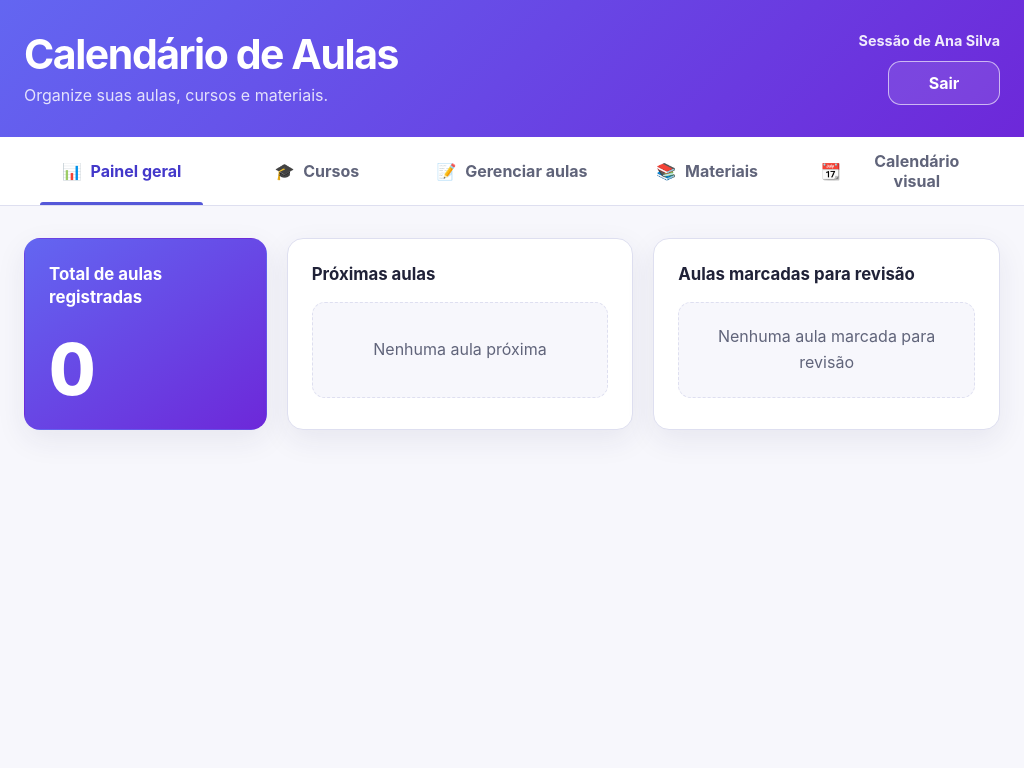
Test: navegação da área autenticada › troca entre as cinco seções disponíveis
This screenshot has width=1024, height=768.
Click the button "🎓 Cursos": {"x": 317, "y": 171} [219, 137, 414, 205]
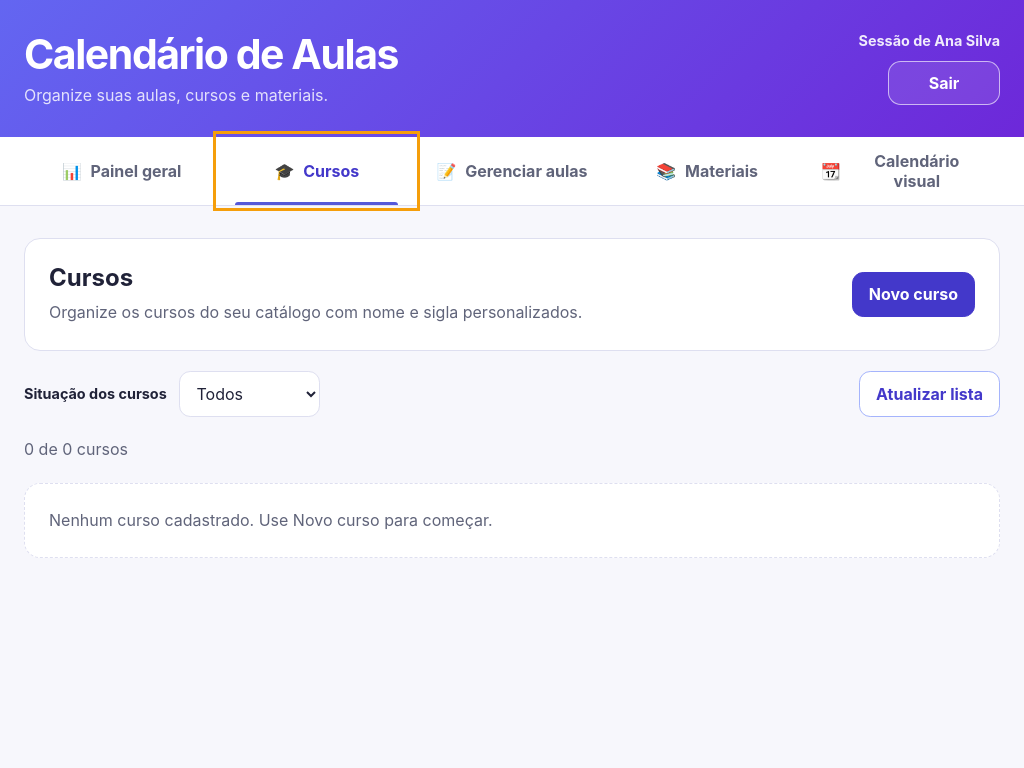
Expected: the heading "Cursos" is shown, [49, 263, 133, 292]
Expected: the text "Nenhum curso cadastrado. Use Novo curso para começar." is shown, [24, 483, 1000, 558]
Click the button "📝 Gerenciar aulas": {"x": 512, "y": 171} [414, 137, 610, 205]
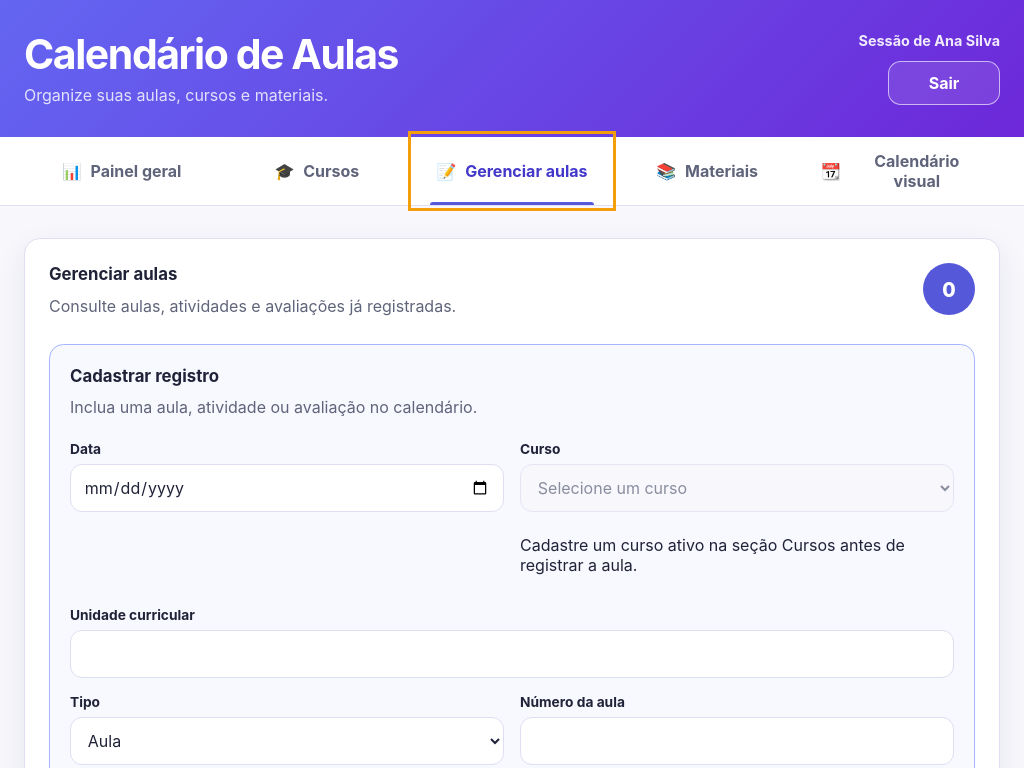
Expected: the heading "Gerenciar aulas" is shown, [49, 264, 177, 284]
Click the button "📚 Materiais": {"x": 707, "y": 171} [610, 137, 805, 205]
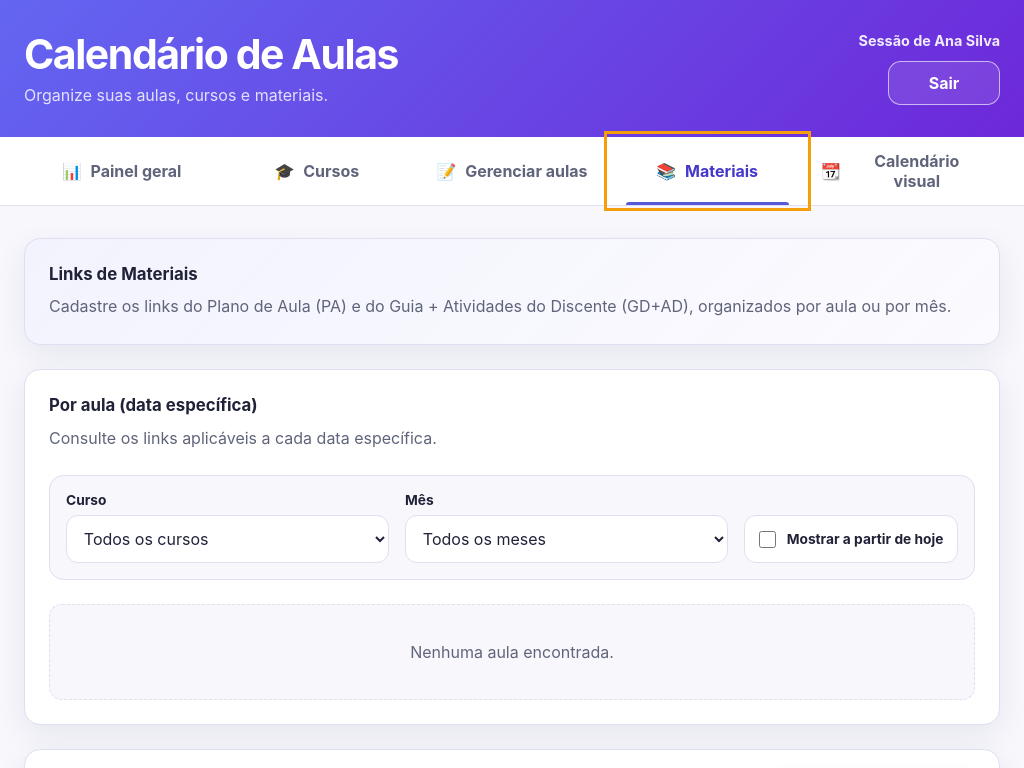
Expected: the heading "Links de Materiais" is shown, [49, 264, 198, 284]
Expected: the heading "Por aula (data específica)" is shown, [49, 395, 258, 415]
Click the button "📆 Calendário visual": {"x": 902, "y": 171} [805, 137, 1000, 205]
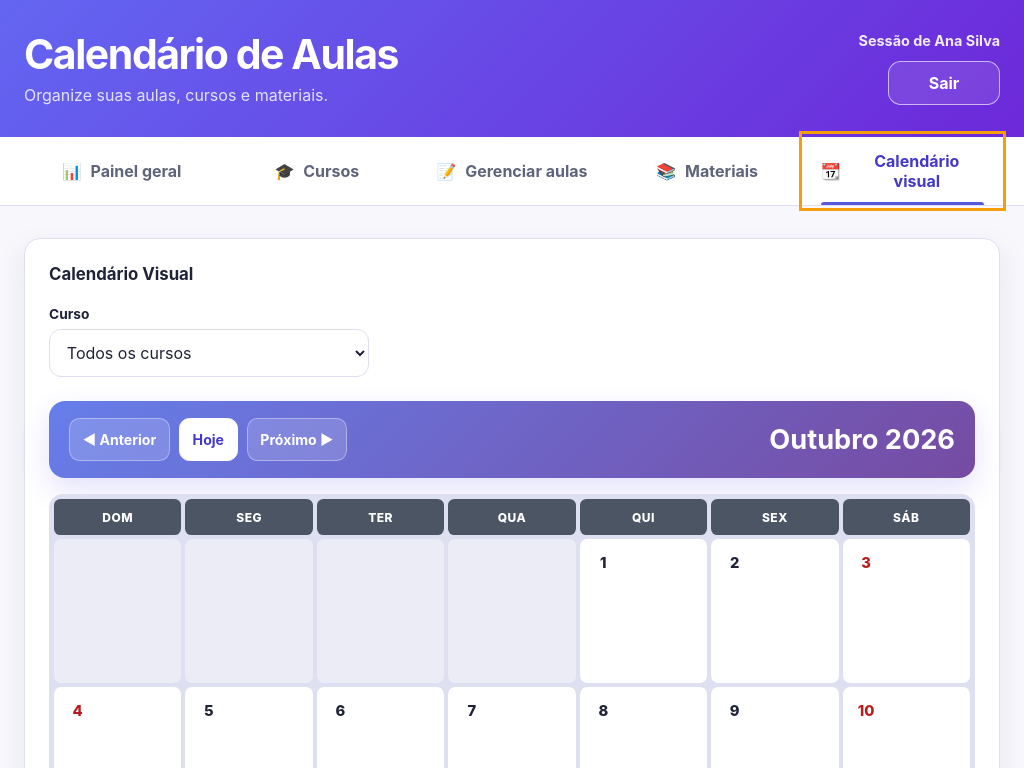
Expected: the heading "Calendário Visual" is shown, [49, 264, 193, 284]
Click the button "📊 Painel geral": {"x": 122, "y": 171} [24, 137, 219, 205]
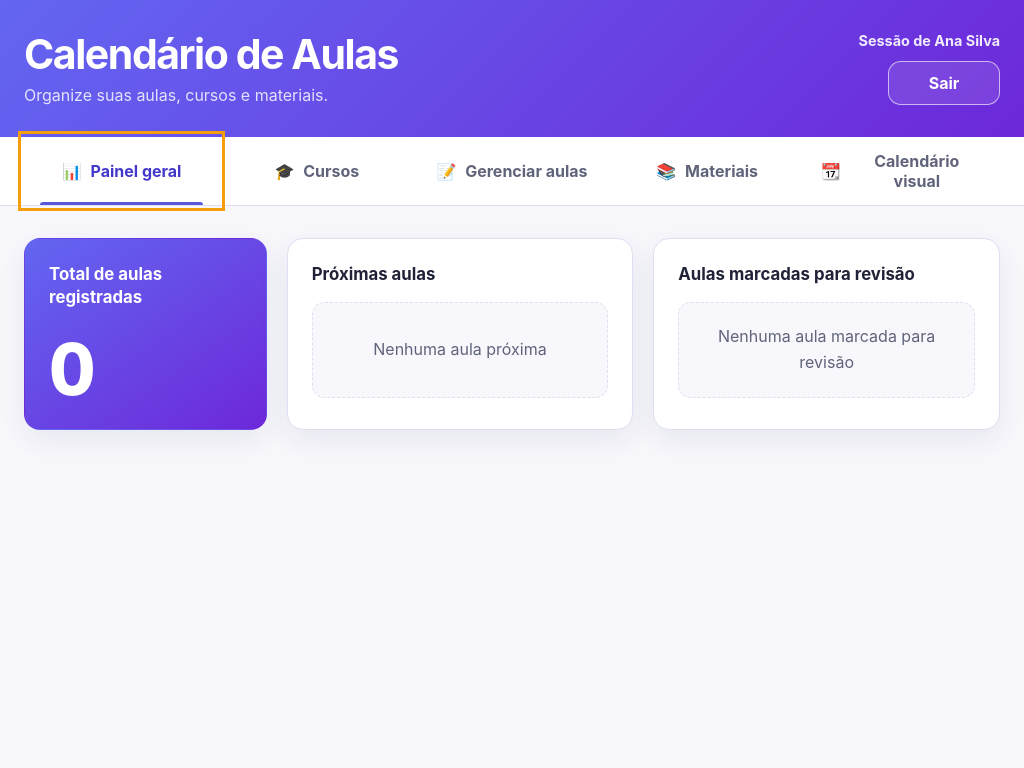
Expected: the heading "Próximas aulas" is shown, [312, 264, 436, 284]
